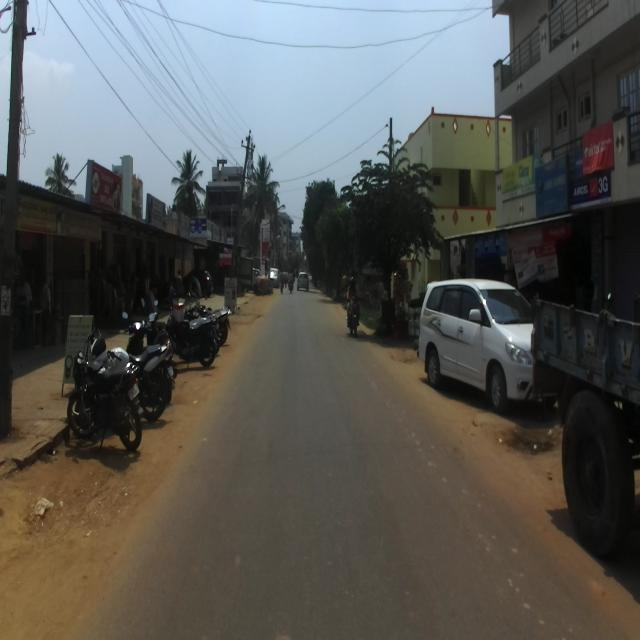car ahead at: (419, 279, 534, 413), (70, 346, 142, 458)
